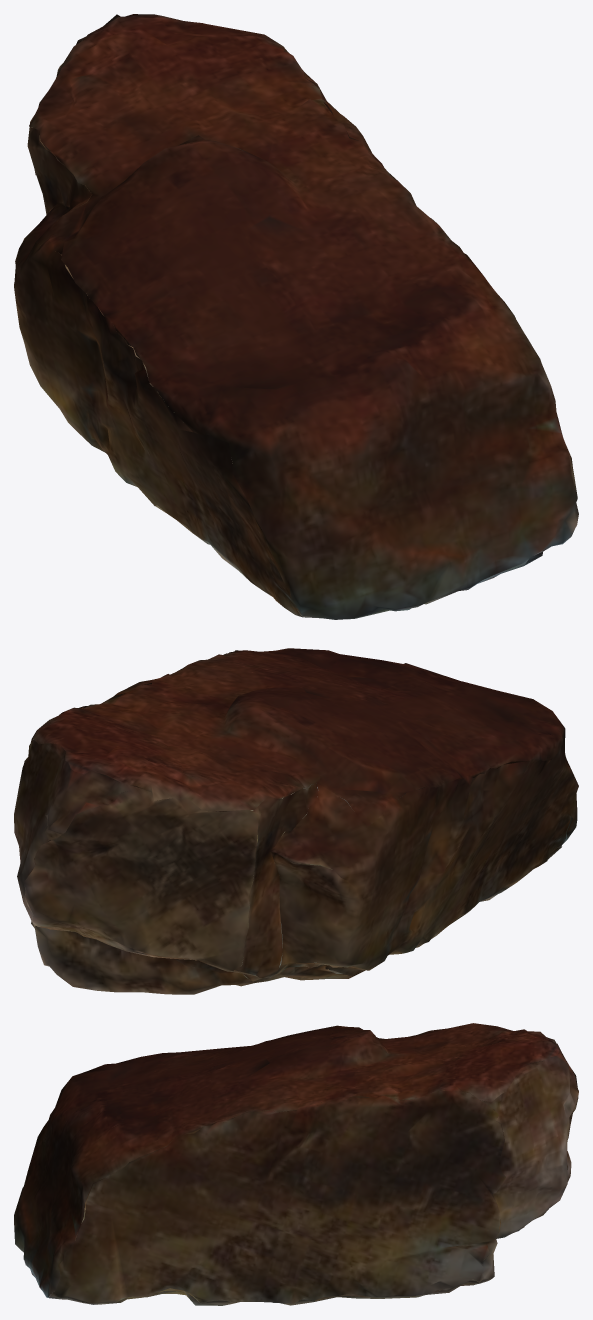
File: rock_07.glb
The picture shows the model from 3 angles, top to bottom: view 1: azimuth 30°, elevation 25°; view 2: azimuth 150°, elevation 25°; view 3: azimuth 270°, elevation 25°; orthographic projection. The views are drawn at different scales.
Parts seen in each view (by area): view 1: rock_07; view 2: rock_07; view 3: rock_07.
Boxes of the visible parts, box(x1,y1,x2,y2) form: rock_07: box(14, 14, 578, 619); rock_07: box(14, 648, 578, 994); rock_07: box(14, 1023, 578, 1305).
Size of the model in its own units: 0.1687 by 0.1437 by 0.3202.
Materials: 1 (1 with a texture image).
